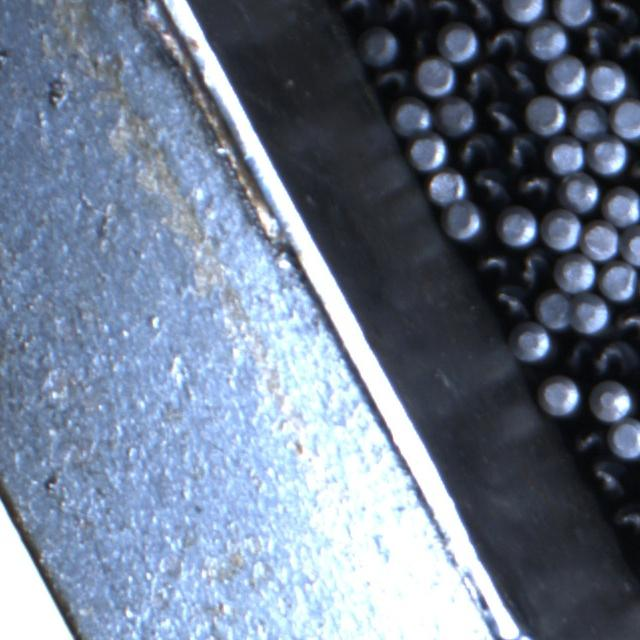tool: (590, 379, 636, 422), (498, 203, 540, 246), (510, 322, 553, 364), (539, 372, 583, 413), (540, 209, 582, 250), (444, 200, 486, 241), (525, 20, 568, 60), (554, 252, 596, 292), (587, 134, 629, 174), (586, 60, 626, 102), (546, 55, 588, 95), (524, 93, 566, 133), (414, 56, 456, 96), (558, 170, 600, 210), (572, 292, 612, 333), (394, 99, 436, 138), (438, 20, 478, 60), (360, 24, 400, 64), (601, 260, 640, 300), (545, 136, 586, 174), (603, 184, 640, 226), (582, 220, 620, 260), (534, 290, 572, 330), (568, 103, 608, 141), (408, 131, 448, 169), (436, 98, 474, 137), (428, 167, 468, 203), (608, 417, 640, 458), (610, 97, 640, 137), (553, 0, 593, 25), (503, 0, 547, 22), (620, 223, 640, 265)
tool_b: (590, 338, 637, 378), (584, 456, 628, 496), (458, 60, 500, 100), (498, 131, 540, 170), (487, 281, 529, 319), (477, 98, 520, 134), (501, 58, 541, 96), (470, 166, 510, 204), (453, 130, 495, 166), (480, 23, 522, 58), (511, 168, 554, 202), (514, 248, 550, 288), (576, 21, 612, 58), (472, 249, 512, 281), (608, 500, 640, 540), (374, 64, 414, 95), (594, 0, 638, 28), (403, 22, 437, 58), (570, 425, 606, 457), (612, 302, 640, 339), (332, 0, 382, 20), (614, 25, 640, 60), (381, 0, 422, 22), (462, 0, 502, 22), (425, 0, 461, 18)
